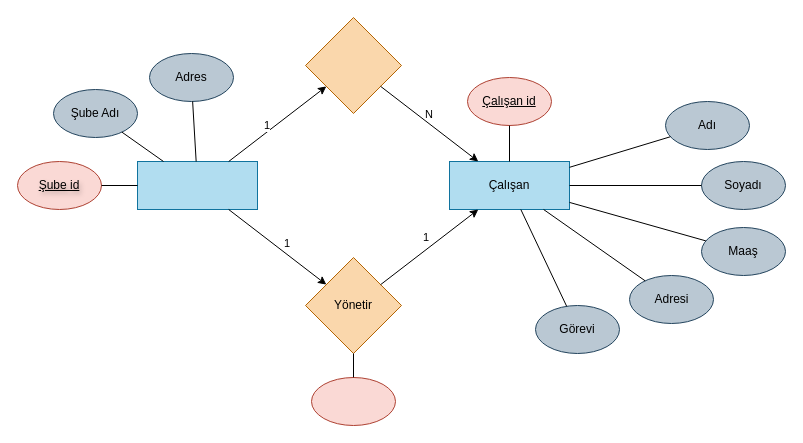
The diagram is 803 pixels wide and 443 high, and some of its shapes have lost their labels. Each missing label, with the box of its shape:
Yönetici id: (310, 376, 396, 426)
Çalışır: (304, 16, 402, 114)
Şube: (136, 160, 258, 210)
